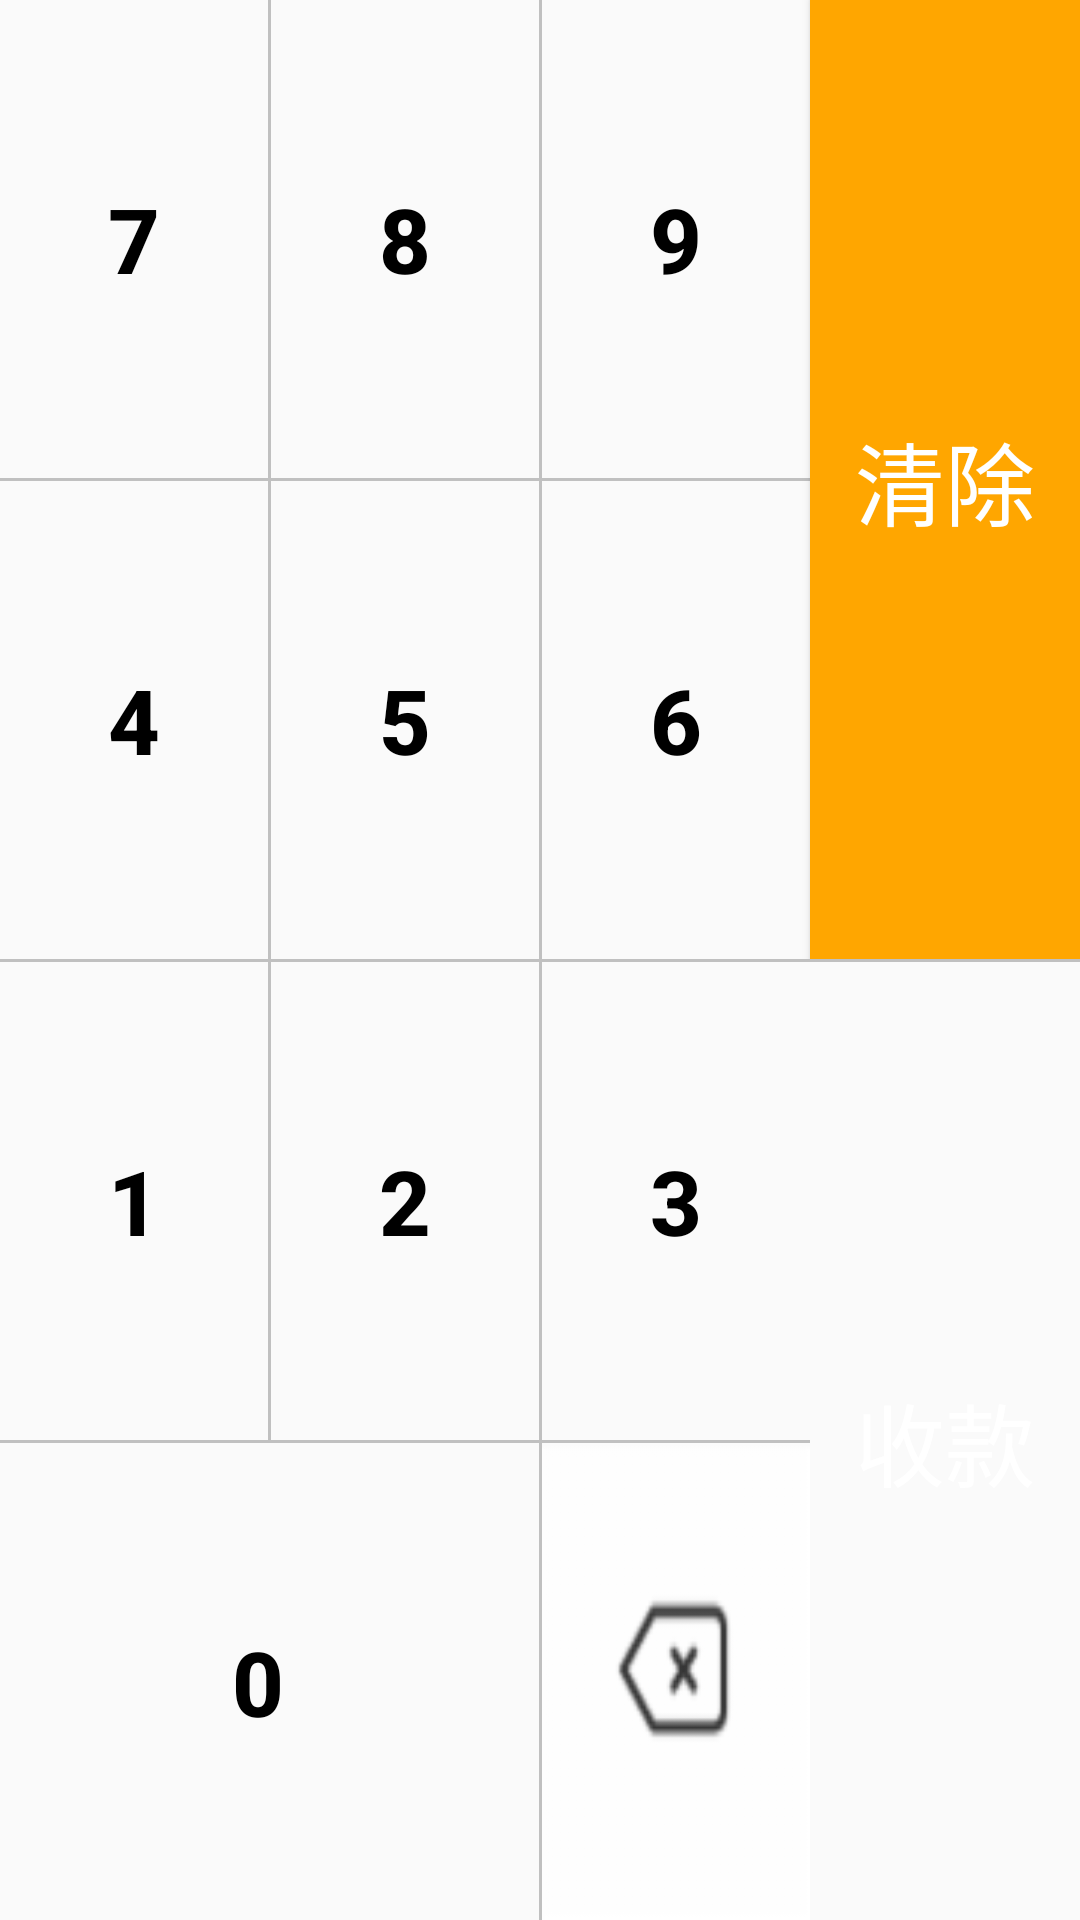

Screen size 1080w x 1920h. Icon name, then its box in pixels as (x1, y1, x2, y2):
del selecotr: (618, 1601, 729, 1737)
